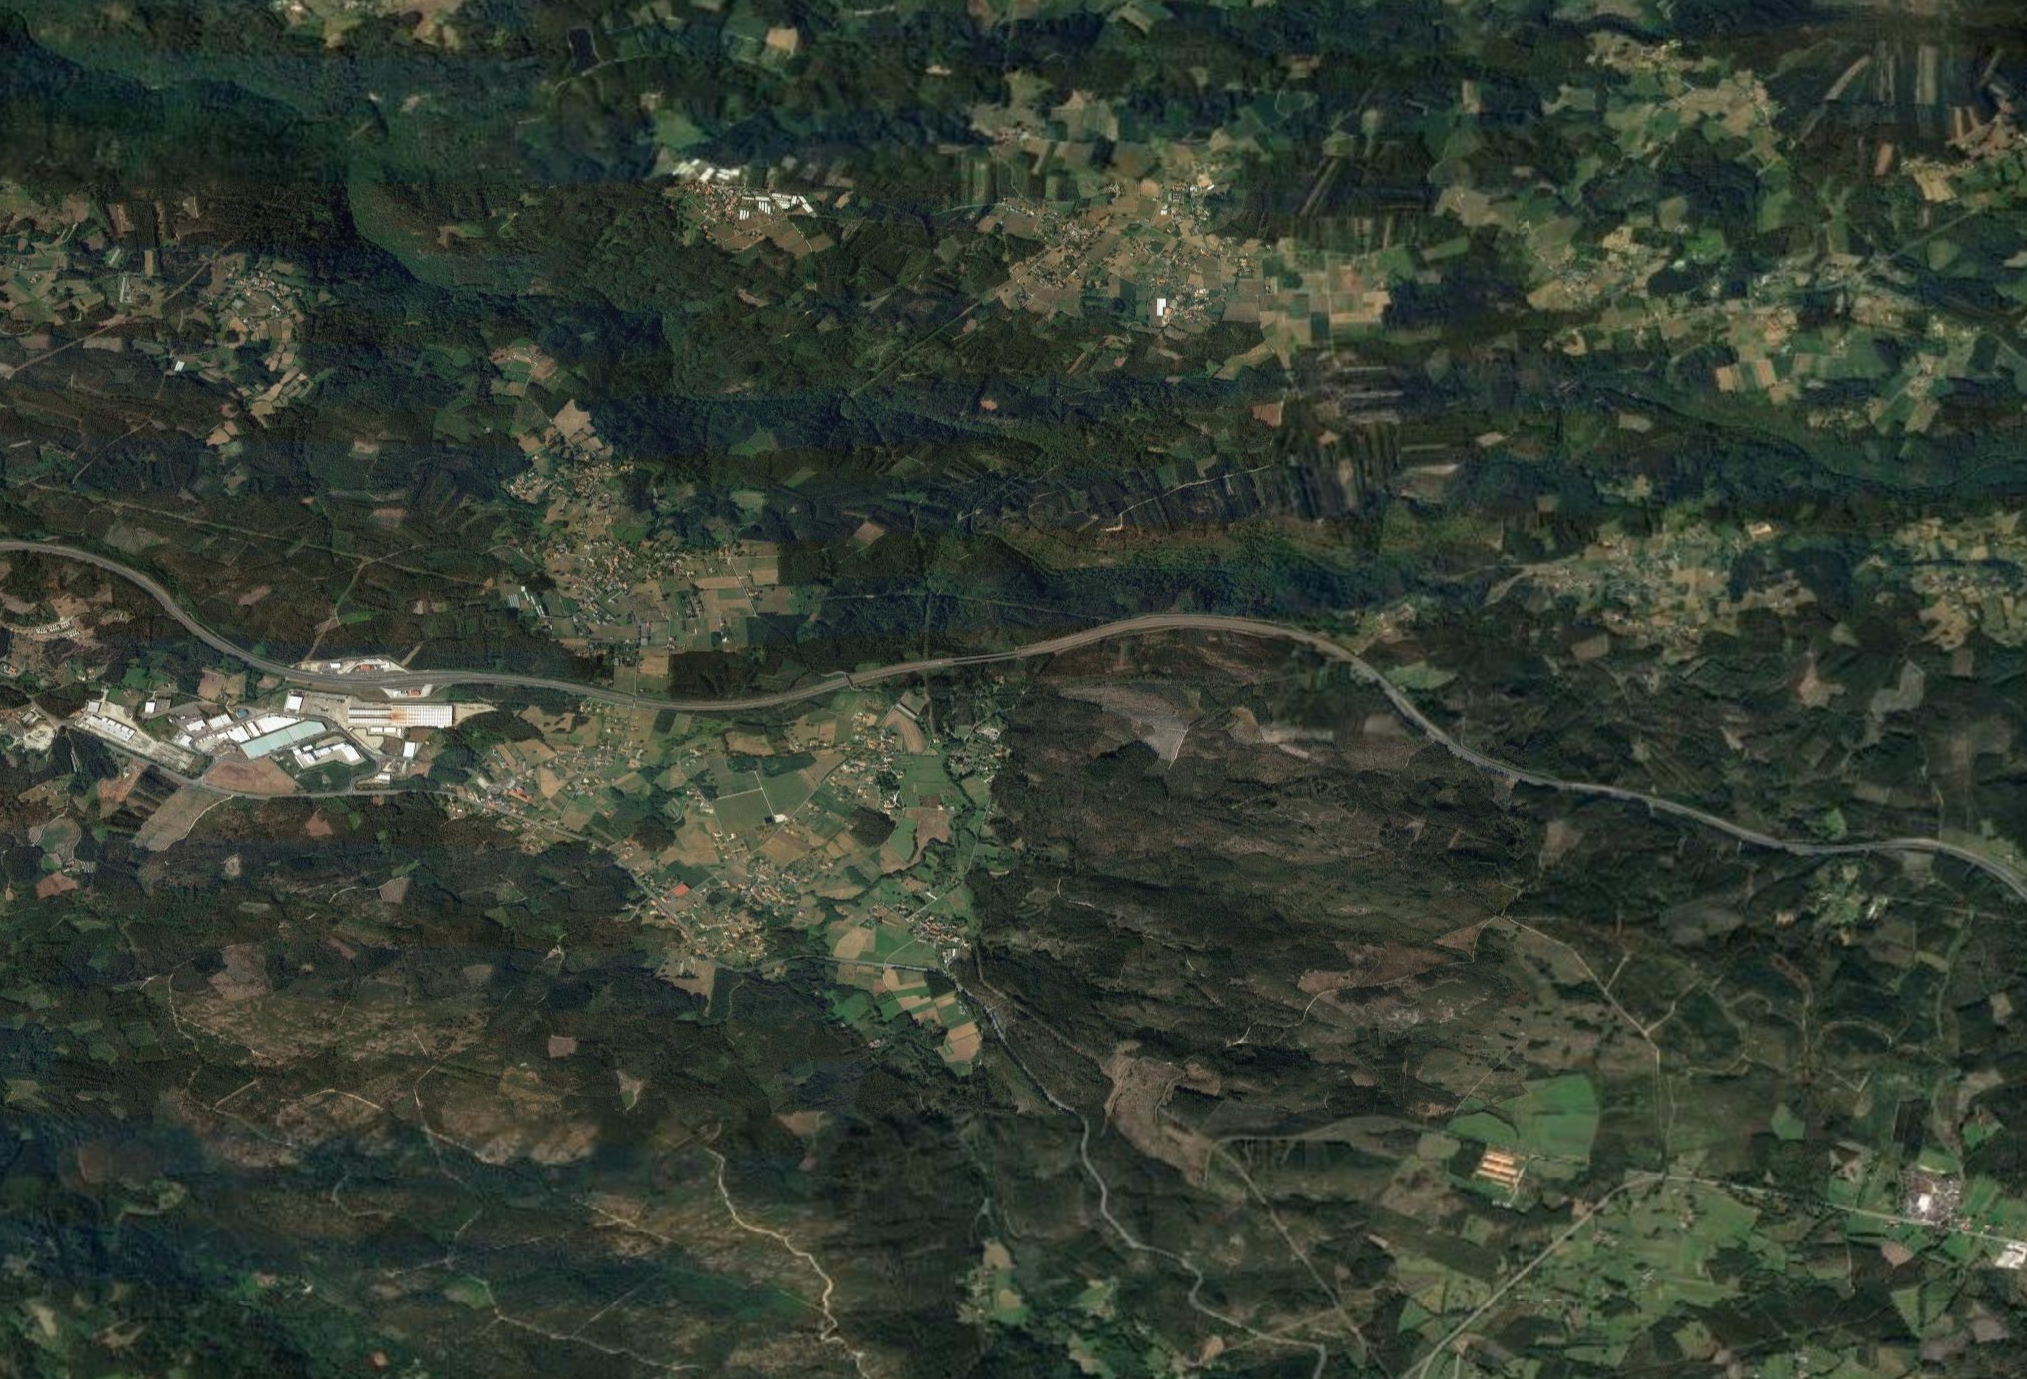industrial: (83, 656, 482, 811)
motorway: (1370, 673, 1611, 803), (2, 533, 226, 651), (1613, 780, 1899, 866), (1050, 599, 1368, 676), (799, 628, 1048, 710), (540, 666, 800, 728), (229, 648, 542, 693), (1899, 808, 2027, 910)
